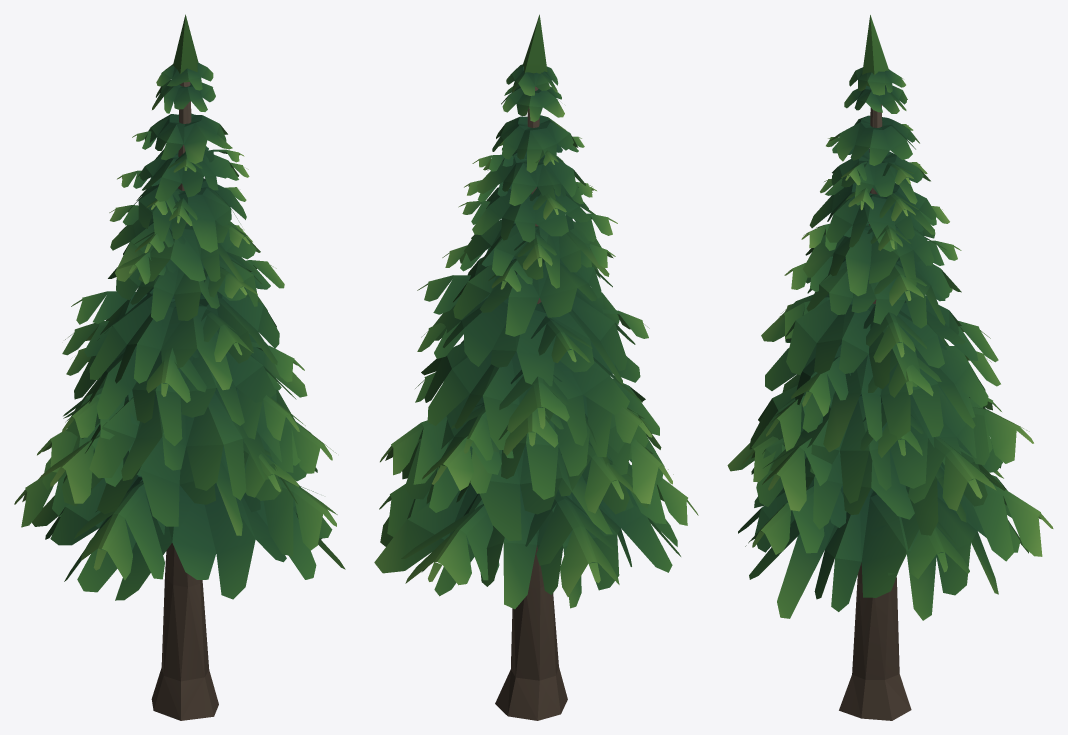
File: spruce_M_normal_long_s11.glb
The picture shows the model from 3 angles, left to right: view 1: azimuth 30°, elevation 25°; view 2: azimuth 150°, elevation 25°; view 3: azimuth 270°, elevation 25°; orthographic projection.
Visible parts, largest first — view 1: Tree; view 2: Tree; view 3: Tree.
Part boxes in pixels (left/top/right/bottom): Tree: left=14, top=14, right=345, bottom=720; Tree: left=374, top=14, right=698, bottom=720; Tree: left=727, top=15, right=1053, bottom=720.
Size of what is drawn, in the model's own units: 2.95 by 7.23 by 3.09.
